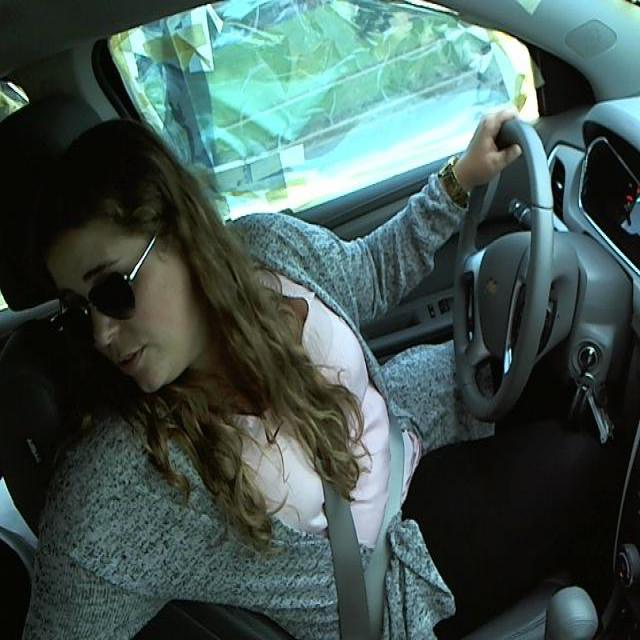seatbelt: (296, 376, 411, 639)
